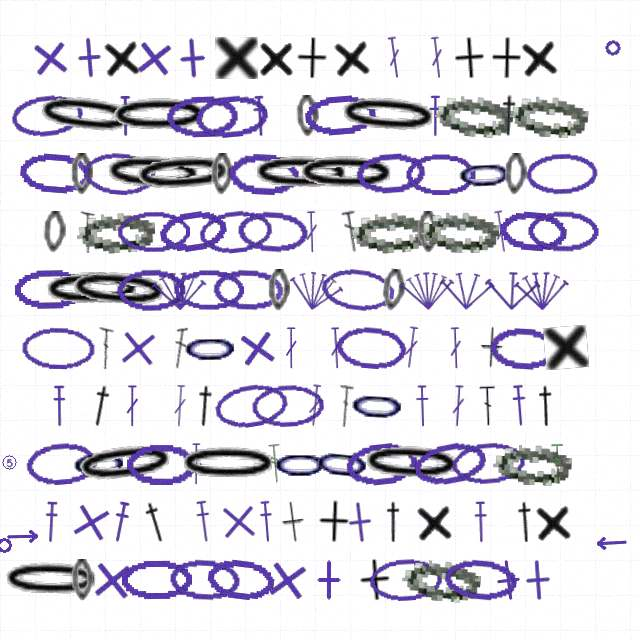chain: (71, 437, 180, 491), (32, 89, 141, 142), (65, 265, 173, 315), (335, 91, 442, 140), (130, 150, 237, 198), (100, 150, 207, 197), (358, 440, 465, 487), (0, 558, 104, 602), (107, 94, 212, 137), (249, 152, 354, 195), (294, 152, 399, 195), (40, 268, 145, 311), (176, 443, 281, 485), (410, 437, 489, 491), (212, 379, 291, 432), (401, 556, 482, 604), (9, 91, 86, 141), (319, 265, 396, 315), (156, 206, 231, 257), (197, 207, 275, 256), (434, 92, 514, 139), (343, 439, 419, 488), (204, 555, 278, 605), (509, 93, 589, 139), (76, 209, 156, 255), (350, 209, 430, 255), (193, 92, 269, 140), (442, 556, 518, 604), (450, 440, 526, 487), (302, 92, 377, 139), (17, 150, 92, 197), (334, 324, 409, 371), (82, 150, 156, 197), (354, 150, 428, 197), (24, 440, 98, 487), (493, 442, 572, 486), (497, 208, 570, 255), (368, 557, 444, 602), (236, 209, 310, 255), (168, 557, 242, 603), (421, 210, 499, 253), (488, 325, 560, 371), (21, 326, 96, 370), (251, 383, 324, 428), (525, 152, 599, 196), (227, 151, 299, 196), (165, 94, 238, 138), (212, 268, 285, 312), (527, 210, 600, 253), (13, 268, 85, 311), (117, 211, 190, 253), (116, 268, 187, 311), (405, 153, 477, 195), (120, 559, 192, 601), (173, 269, 244, 311), (125, 443, 196, 485), (311, 440, 374, 487), (347, 383, 408, 428), (69, 441, 130, 486), (455, 152, 515, 196), (181, 327, 240, 369), (271, 443, 330, 485), (380, 268, 407, 312), (296, 95, 319, 137), (504, 153, 527, 195), (43, 211, 66, 253), (417, 211, 440, 253), (71, 559, 94, 601), (71, 153, 93, 195), (211, 153, 233, 195), (268, 269, 290, 311)
double: (341, 210, 362, 253), (491, 210, 511, 253), (385, 36, 404, 79), (402, 326, 421, 369), (335, 384, 354, 427), (428, 36, 446, 79), (306, 384, 324, 427), (479, 385, 497, 427), (97, 327, 114, 369), (172, 326, 188, 369), (328, 327, 344, 369), (172, 385, 188, 427), (450, 385, 466, 427), (80, 211, 95, 253), (304, 211, 319, 253), (448, 327, 463, 369), (284, 327, 298, 369), (125, 385, 139, 427)
fan: (284, 264, 347, 316), (398, 267, 456, 312), (438, 267, 496, 312), (150, 268, 208, 312), (484, 268, 541, 312), (513, 268, 570, 312)
half_double: (139, 499, 172, 545), (85, 383, 117, 429), (191, 384, 219, 428), (496, 94, 522, 137), (381, 501, 406, 543), (513, 501, 538, 543), (109, 500, 132, 544), (534, 385, 558, 427), (193, 500, 214, 543), (510, 384, 529, 427), (257, 500, 276, 543), (251, 95, 269, 137), (42, 501, 60, 543), (414, 385, 431, 427), (472, 501, 489, 543), (117, 95, 133, 137), (427, 95, 443, 137), (51, 385, 67, 427)
noise: (594, 536, 627, 550), (6, 530, 40, 543), (603, 38, 623, 58), (0, 453, 19, 472), (0, 535, 14, 555)
single: (66, 497, 116, 547), (233, 324, 281, 372), (263, 556, 311, 604), (27, 35, 73, 81), (131, 35, 177, 81), (115, 325, 161, 371), (337, 499, 383, 545), (89, 557, 135, 603), (485, 557, 531, 603), (543, 325, 589, 370), (67, 35, 112, 80), (216, 499, 261, 544), (170, 36, 214, 80), (516, 558, 560, 602), (518, 35, 561, 80), (101, 35, 143, 80), (331, 35, 373, 80), (215, 37, 258, 79), (414, 500, 455, 544), (533, 500, 574, 544), (308, 559, 350, 601), (257, 37, 296, 79), (357, 558, 392, 602), (452, 36, 486, 80), (317, 500, 350, 543), (295, 37, 328, 79), (490, 37, 522, 79), (280, 500, 307, 544), (480, 326, 504, 369)
treble: (267, 442, 284, 485), (550, 443, 566, 485), (189, 443, 203, 485)
